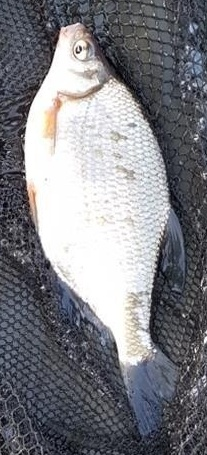Blicca bjoerkna: (20, 20, 187, 435)
